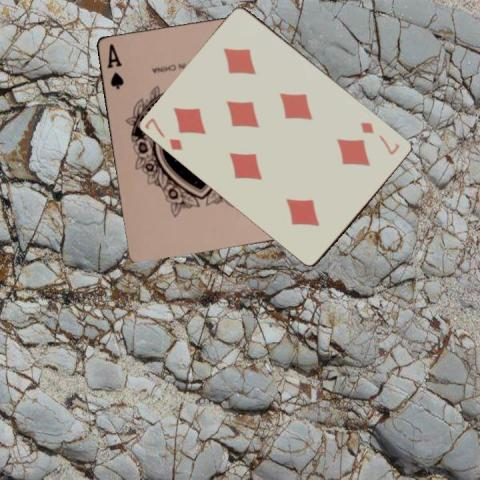7d: (358, 119, 402, 156), (142, 115, 185, 152)
As: (103, 40, 125, 90)
